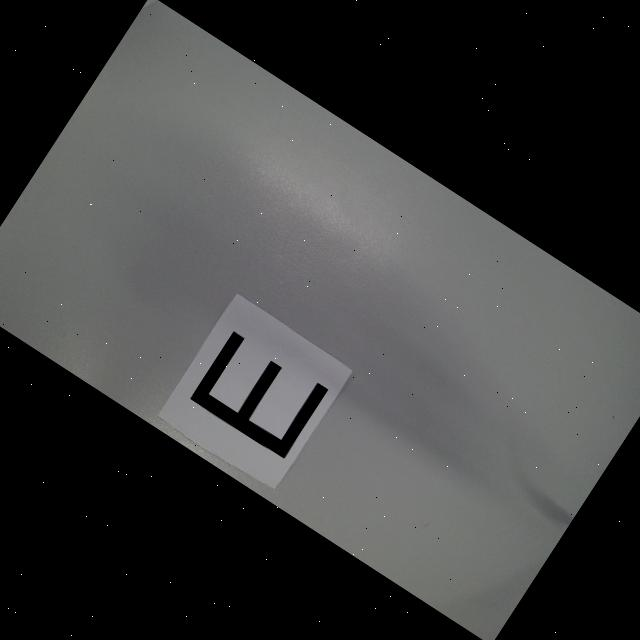FAKE: (188, 329, 328, 460)
